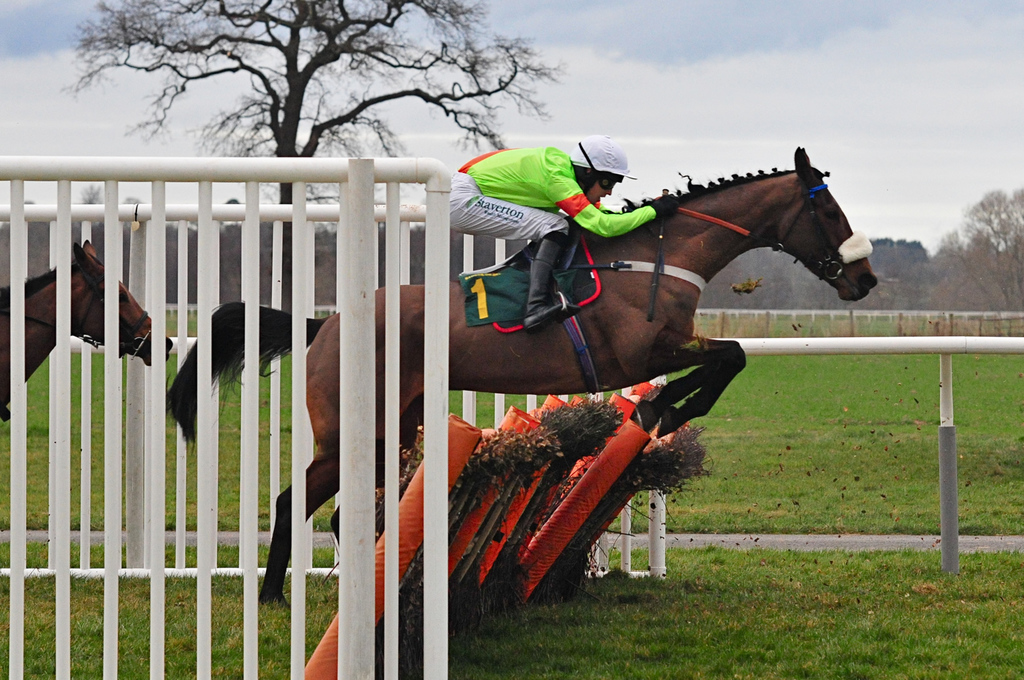Tree: (61, 0, 567, 308), (692, 243, 904, 307), (918, 187, 1023, 314), (866, 233, 934, 276), (74, 176, 104, 205), (127, 193, 146, 207)
